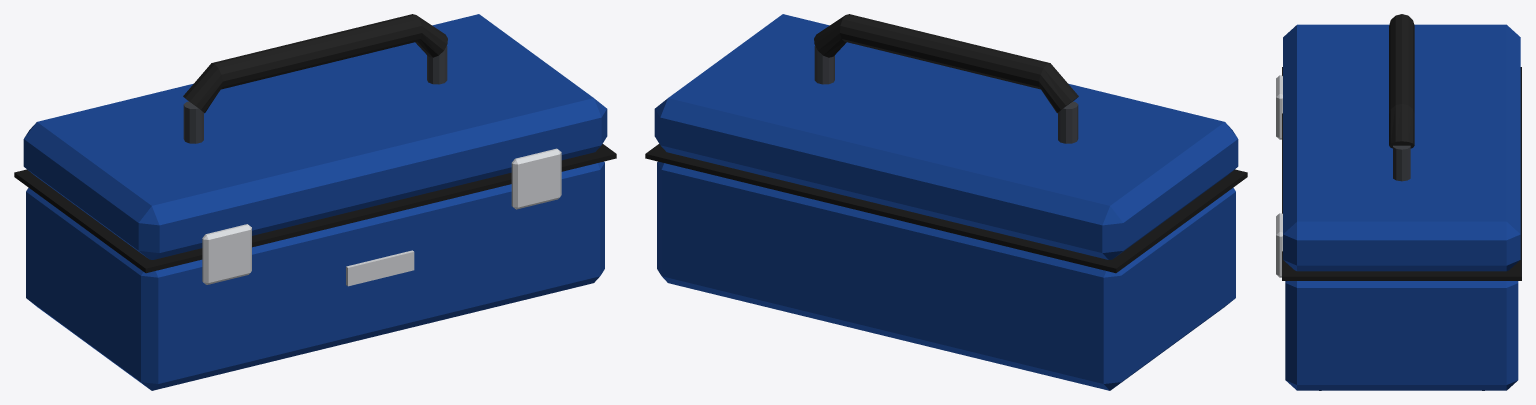
File: jogo_de_chaves.glb
3 renders of one model, left to right at view 1: azimuth 30°, elevation 25°; view 2: azimuth 150°, elevation 25°; view 3: azimuth 270°, elevation 25°, orthographic. The views are drawn at different scales.
Visible parts, largest first — view 1: jogo_de_chaves_azul_ferramenta, jogo_de_chaves_plastico_preto, jogo_de_chaves_chassi, jogo_de_chaves_cromado, jogo_de_chaves_aco_escuro; view 2: jogo_de_chaves_azul_ferramenta, jogo_de_chaves_chassi, jogo_de_chaves_plastico_preto, jogo_de_chaves_aco_escuro; view 3: jogo_de_chaves_azul_ferramenta, jogo_de_chaves_plastico_preto, jogo_de_chaves_chassi, jogo_de_chaves_cromado, jogo_de_chaves_aco_escuro.
Part boxes in pixels (x1=…): jogo_de_chaves_azul_ferramenta: x1=23, y1=14, x2=607, y2=390; jogo_de_chaves_plastico_preto: x1=183, y1=14, x2=447, y2=113; jogo_de_chaves_chassi: x1=14, y1=144, x2=616, y2=273; jogo_de_chaves_cromado: x1=202, y1=148, x2=561, y2=286; jogo_de_chaves_aco_escuro: x1=183, y1=46, x2=447, y2=143; jogo_de_chaves_azul_ferramenta: x1=654, y1=14, x2=1238, y2=390; jogo_de_chaves_chassi: x1=645, y1=144, x2=1247, y2=273; jogo_de_chaves_plastico_preto: x1=814, y1=14, x2=1078, y2=113; jogo_de_chaves_aco_escuro: x1=814, y1=46, x2=1078, y2=143; jogo_de_chaves_azul_ferramenta: x1=1283, y1=24, x2=1520, y2=390; jogo_de_chaves_plastico_preto: x1=1389, y1=14, x2=1414, y2=148; jogo_de_chaves_chassi: x1=1282, y1=67, x2=1521, y2=280; jogo_de_chaves_cromado: x1=1276, y1=75, x2=1282, y2=277; jogo_de_chaves_aco_escuro: x1=1393, y1=145, x2=1410, y2=181.
Size of the model in its own units: 0.426 by 0.2249 by 0.211.
